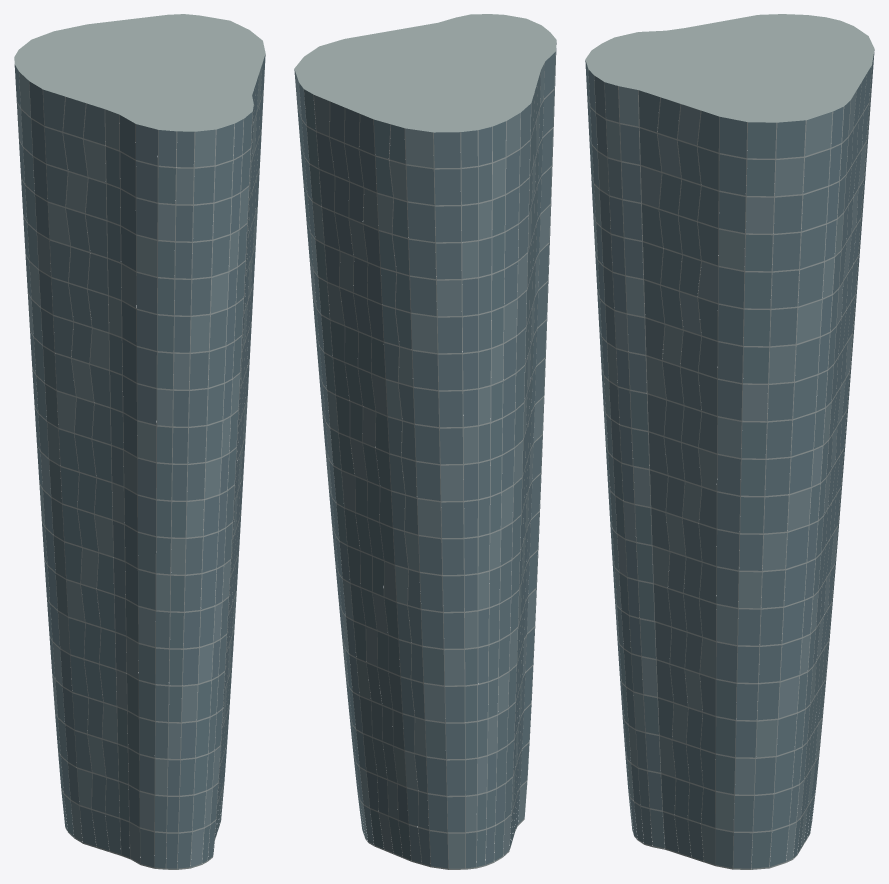
The model's file is tour-alto-far.glb.
The picture shows the model from 3 angles, left to right: view 1: azimuth 30°, elevation 25°; view 2: azimuth 150°, elevation 25°; view 3: azimuth 270°, elevation 25°; orthographic projection. The views are drawn at different scales.
Parts seen in each view (by area): view 1: tour-alto-0-glass, tour-alto-0-glassPale, tour-alto-0-roof, tour-alto-0-frame; view 2: tour-alto-0-glass, tour-alto-0-glassPale, tour-alto-0-frame, tour-alto-0-roof; view 3: tour-alto-0-glass, tour-alto-0-glassPale, tour-alto-0-frame, tour-alto-0-roof.
Part boxes in pixels (x1,y1,x2,y2): tour-alto-0-glass: (14, 54, 265, 868); tour-alto-0-glassPale: (16, 64, 262, 866); tour-alto-0-roof: (14, 14, 265, 131); tour-alto-0-frame: (16, 55, 265, 869); tour-alto-0-glass: (297, 43, 556, 868); tour-alto-0-glassPale: (294, 63, 552, 868); tour-alto-0-frame: (297, 44, 556, 869); tour-alto-0-roof: (294, 14, 556, 132); tour-alto-0-glass: (585, 52, 874, 868); tour-alto-0-glassPale: (593, 86, 871, 864); tour-alto-0-frame: (587, 50, 874, 869); tour-alto-0-roof: (585, 14, 874, 122).
Bounding box in the file's own units: 48.25 × 160 × 54.28.
